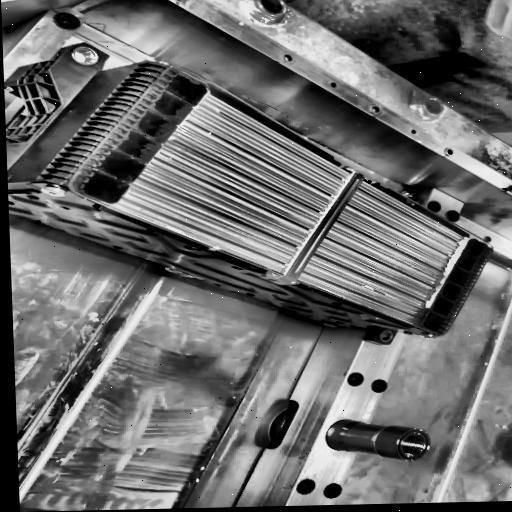battery_module: (3, 34, 499, 350)
